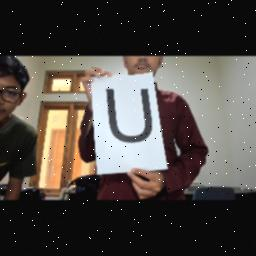u: (104, 84, 158, 144)
